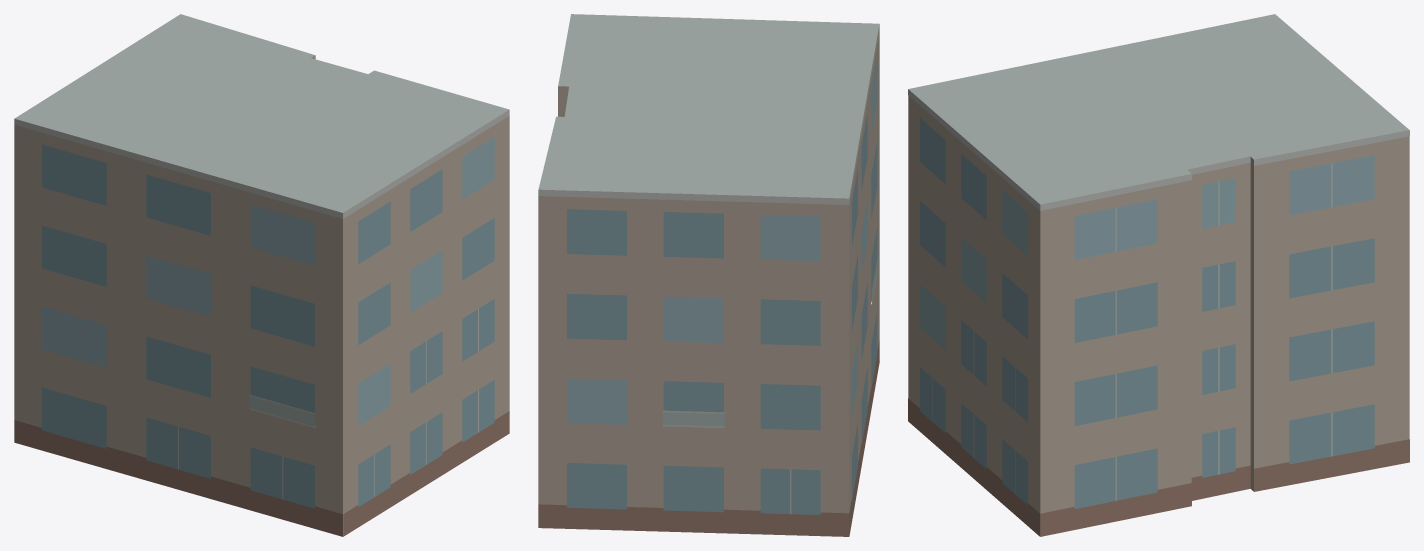
The model's file is survey-upis-32732600.glb.
3 renders of one model, left to right at view 1: azimuth 30°, elevation 25°; view 2: azimuth 150°, elevation 25°; view 3: azimuth 270°, elevation 25°, orthographic. The views are drawn at different scales.
Parts seen in each view (by area): view 1: survey-upis-32732600.tmp; view 2: survey-upis-32732600.tmp; view 3: survey-upis-32732600.tmp.
Boxes of the visible parts, left/top/right/bottom form: survey-upis-32732600.tmp: left=14, top=14, right=509, bottom=536; survey-upis-32732600.tmp: left=538, top=14, right=879, bottom=536; survey-upis-32732600.tmp: left=908, top=14, right=1409, bottom=536.
Bounding box in the file's own units: 16.01 × 13 × 17.8.
